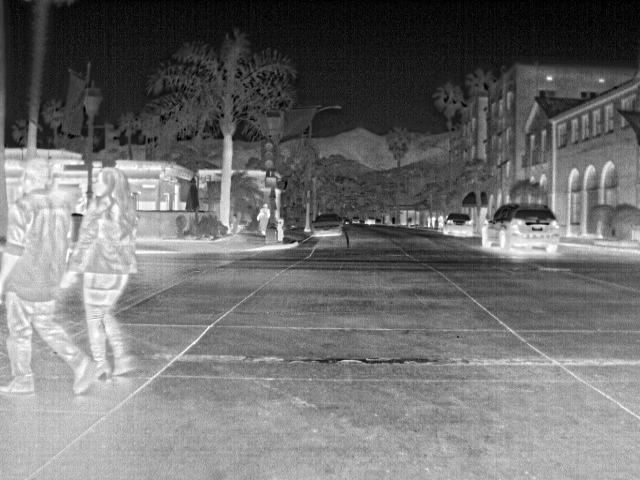car: (481, 204, 560, 254), (441, 212, 476, 237), (308, 214, 343, 236)
person: (2, 154, 106, 394), (62, 165, 147, 382), (256, 203, 271, 239)
